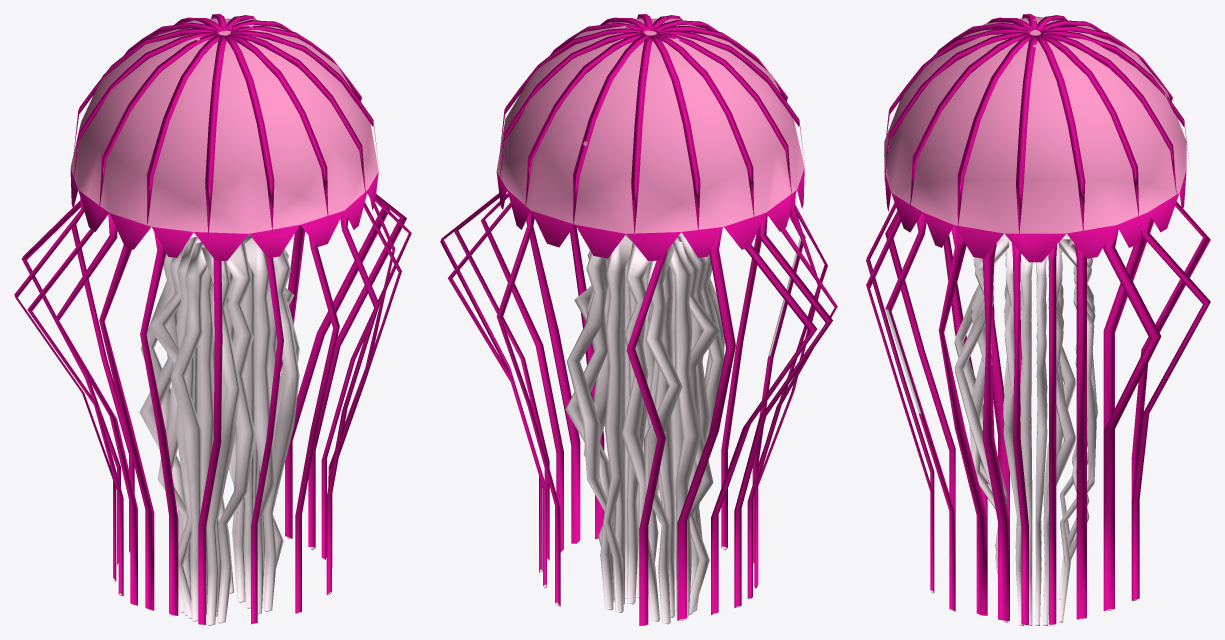
File: Jellyfish.glb
3 views of the same model, side by side, from view 1: azimuth 30°, elevation 25°; view 2: azimuth 150°, elevation 25°; view 3: azimuth 270°, elevation 25° (orthographic).
Visible parts, largest first — view 1: Null.1; view 2: Null.1; view 3: Null.1.
Boxes of the visible parts, x1,y1,x2,y2 form: Null.1: (14,14,411,625); Null.1: (440,14,837,625); Null.1: (866,14,1210,625).
Size of the model in its own units: 283 by 411 by 223.
